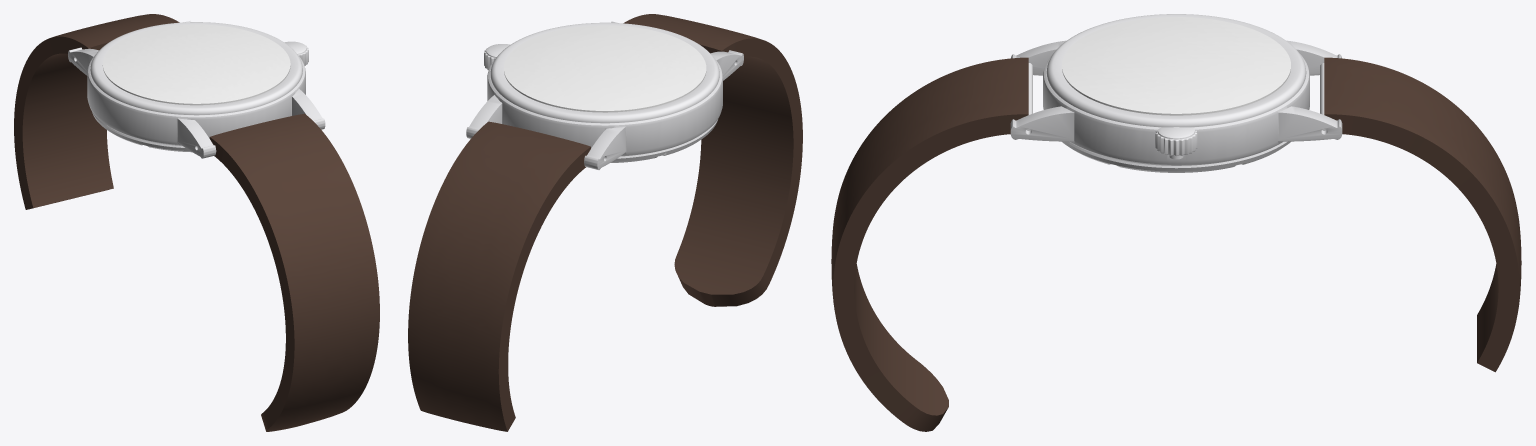
The model's file is uhr.glb.
3 renders of one model, left to right at view 1: azimuth 30°, elevation 25°; view 2: azimuth 150°, elevation 25°; view 3: azimuth 270°, elevation 25°, orthographic. The views are drawn at different scales.
Parts seen in each view (by area): view 1: Band_unten, Band_oben, Glas, Gehaeuse, Luenette, Boden; view 2: Band_oben, Band_unten, Glas, Gehaeuse, Luenette, Boden; view 3: Band_unten, Band_oben, Glas, Gehaeuse, Luenette, Boden, Krone.
Part boxes in pixels (<box>): Band_unten: <box>209,113,379,431</box>; Band_oben: <box>14,14,179,209</box>; Glas: <box>102,24,290,105</box>; Gehaeuse: <box>68,21,325,158</box>; Luenette: <box>90,22,302,115</box>; Boden: <box>92,112,191,152</box>; Band_oben: <box>408,121,590,431</box>; Band_unten: <box>623,14,802,306</box>; Glas: <box>504,25,706,112</box>; Gehaeuse: <box>466,21,743,169</box>; Luenette: <box>490,22,719,123</box>; Boden: <box>610,120,717,162</box>; Band_unten: <box>831,57,1028,431</box>; Band_oben: <box>1324,57,1521,372</box>; Glas: <box>1062,17,1290,115</box>; Gehaeuse: <box>1010,40,1342,165</box>; Luenette: <box>1046,14,1306,127</box>; Boden: <box>1062,141,1290,172</box>; Krone: <box>1155,127,1197,159</box>.
Bounding box in the file's own units: 42.15 × 58.21 × 101.
